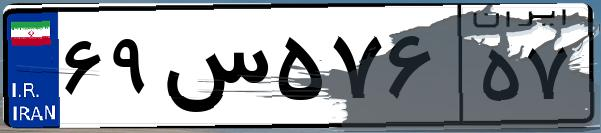5: (270, 28, 330, 110), (475, 38, 525, 113)
6: (385, 28, 445, 110), (57, 26, 110, 100)
7: (330, 28, 385, 110), (525, 38, 570, 115)
9: (110, 28, 158, 98)
س: (158, 20, 270, 120)
